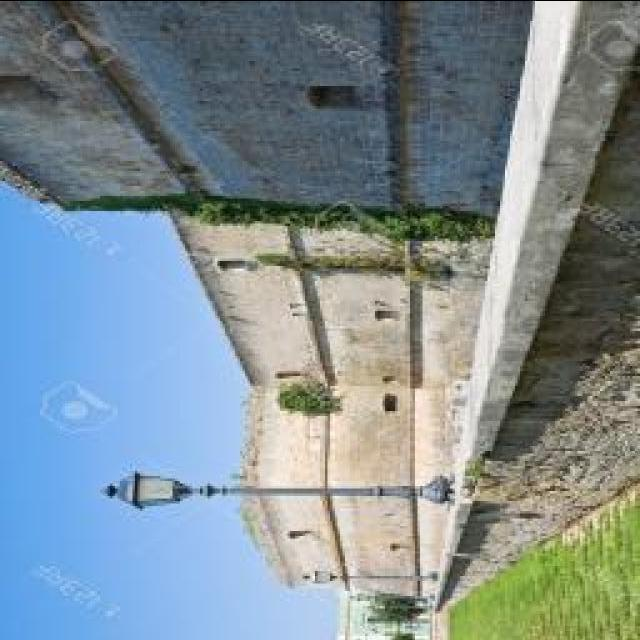vegetation: (278, 377, 341, 413)
